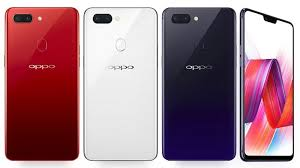oppo: (5, 6, 83, 164), (81, 4, 159, 162), (159, 3, 237, 161), (241, 5, 295, 163)
